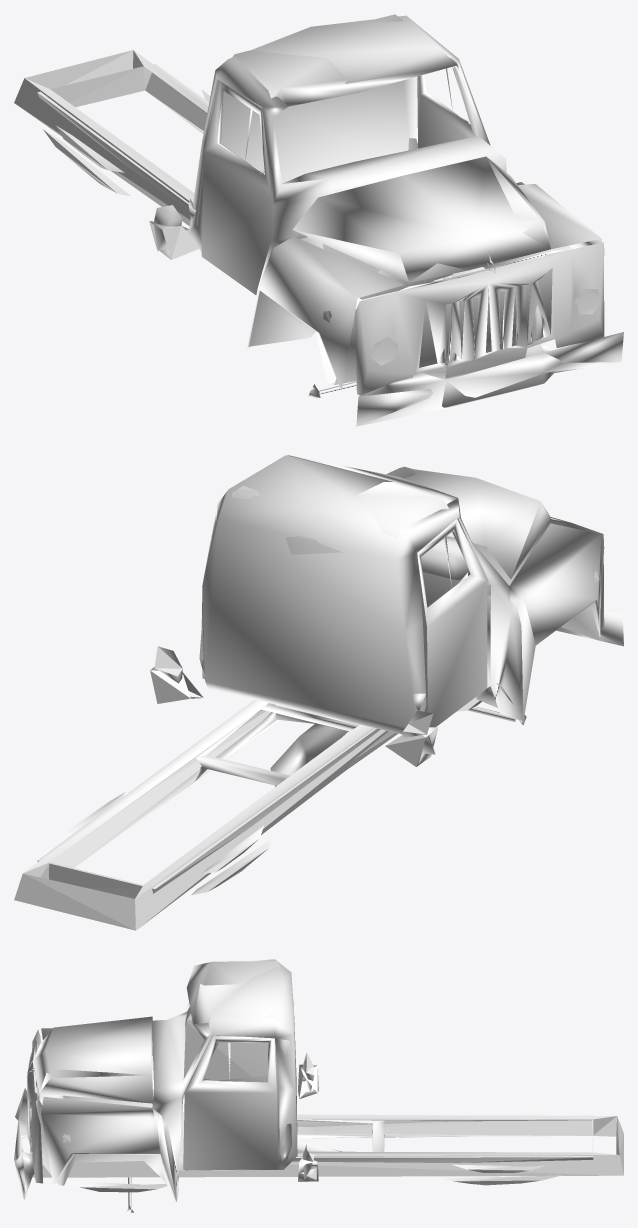
3 views of the same model, one above another, from view 1: azimuth 30°, elevation 25°; view 2: azimuth 150°, elevation 25°; view 3: azimuth 270°, elevation 25° (orthographic). The views are drawn at different scales.
Bounding box in the file's own units: 2.21 × 2.03 × 5.83.
1 material, 1 textured.
